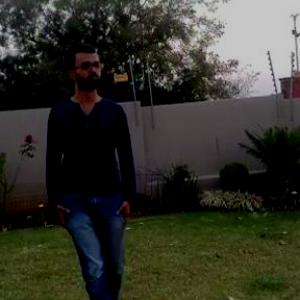follow: (40, 28, 140, 299)
